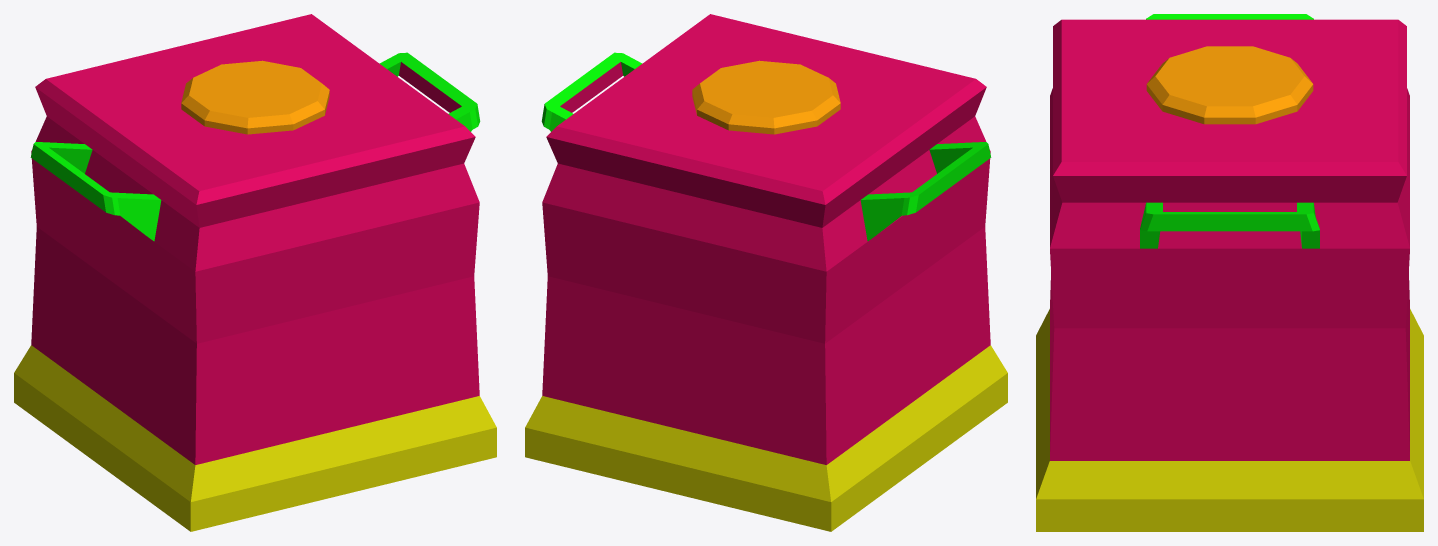
The model's file is MIRROR_BASE.fbx.
3 renders of one model, left to right at view 1: azimuth 30°, elevation 25°; view 2: azimuth 150°, elevation 25°; view 3: azimuth 270°, elevation 25°, orthographic. The views are drawn at different scales.
Parts seen in each view (by area): view 1: MIRROR_BASE; view 2: MIRROR_BASE; view 3: MIRROR_BASE.
Part boxes in pixels (x1,y1,x2,y2): MIRROR_BASE: [14, 14, 496, 531]; MIRROR_BASE: [525, 14, 1007, 531]; MIRROR_BASE: [1036, 14, 1423, 531].
Size of the model in its own units: 52.03 by 45.25 by 42.56.
